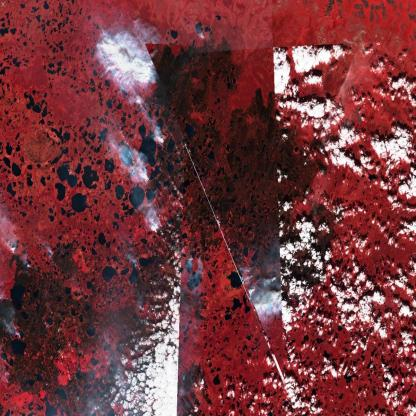fire: (124, 32, 176, 249), (234, 256, 297, 330), (0, 236, 24, 275)
